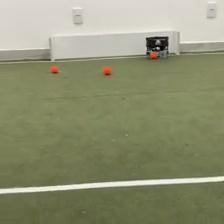ball: (102, 66, 112, 75), (50, 64, 58, 73), (151, 51, 157, 59)
goal: (48, 30, 180, 61)
robot: (145, 34, 169, 57)
